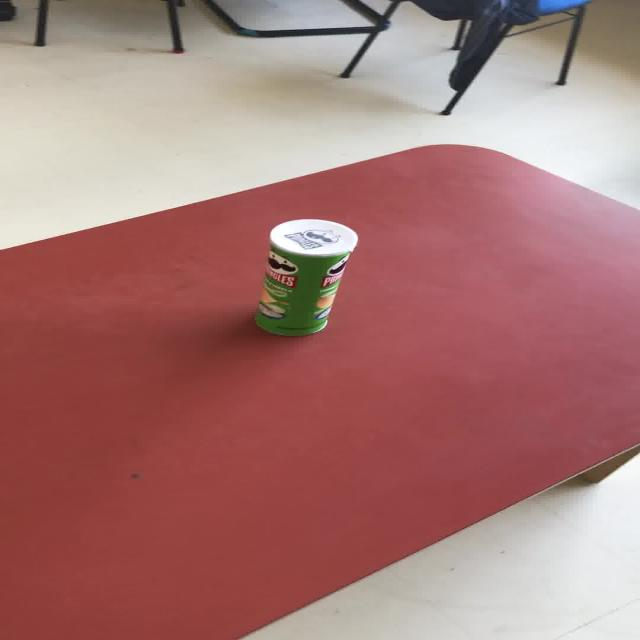pringles: (252, 217, 358, 336)
